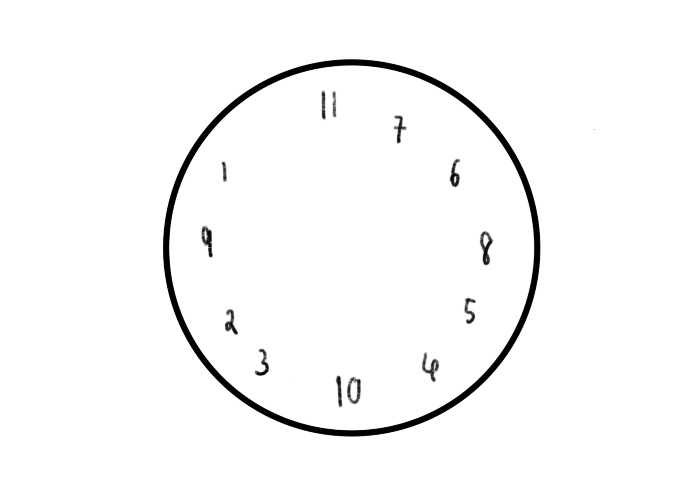eight: (475, 226, 495, 268)
eleven: (316, 86, 341, 120)
five: (462, 289, 478, 325)
four: (420, 350, 441, 382)
nine: (199, 221, 217, 259)
one: (213, 160, 233, 183)
seven: (389, 111, 409, 145)
six: (448, 155, 464, 190)
ten: (332, 368, 363, 412)
three: (255, 340, 272, 378)
two: (216, 301, 242, 336)
